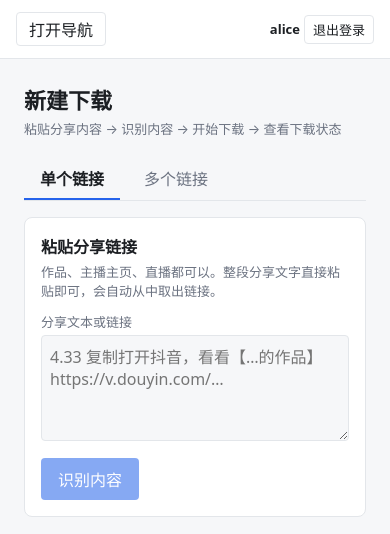
shared application shell › gives the navigation toggle a readable name and a wired state
Click the button with class "app-shell__toggle" at point(61, 29), box [16, 12, 106, 46]
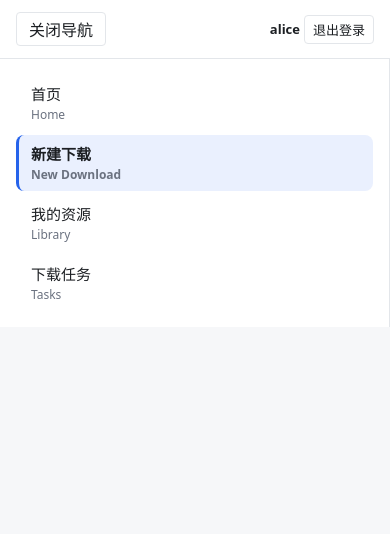
Check: the button with class "app-shell__toggle" is expanded, box [16, 12, 106, 46]
